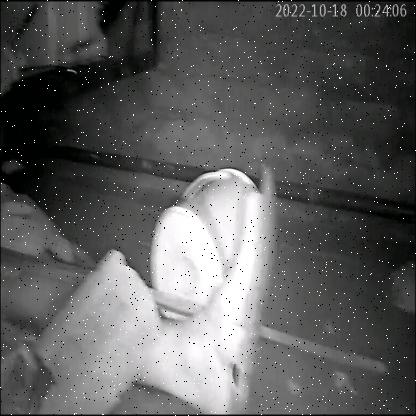leg: (119, 159, 283, 416)
